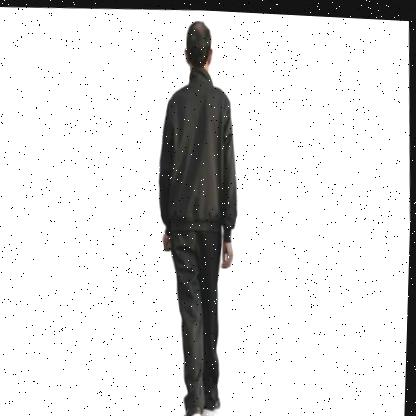person: (138, 10, 262, 416)
